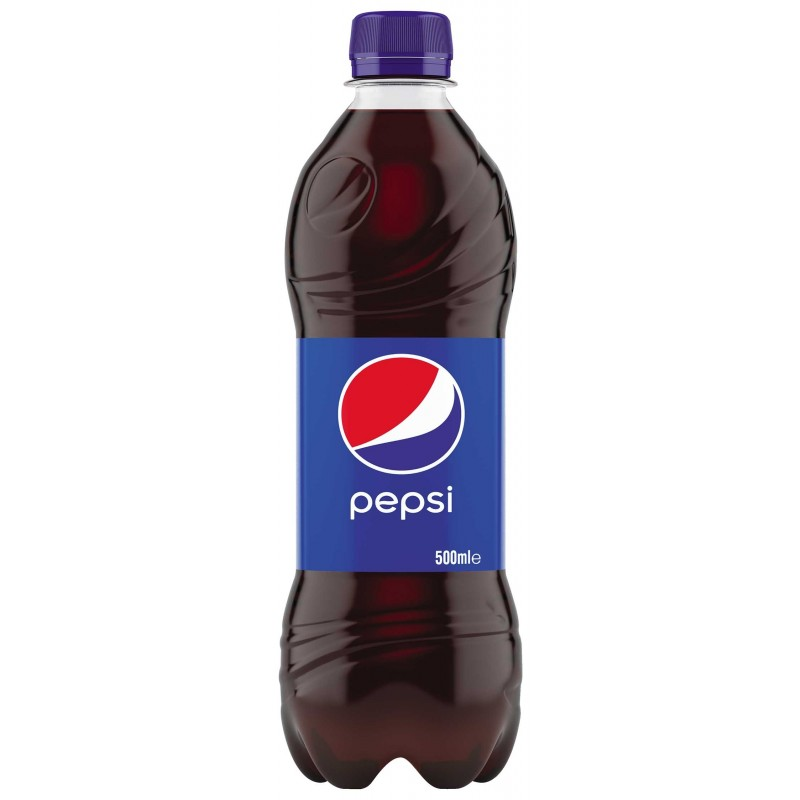pepsi: (332, 350, 465, 474), (337, 350, 465, 474)
